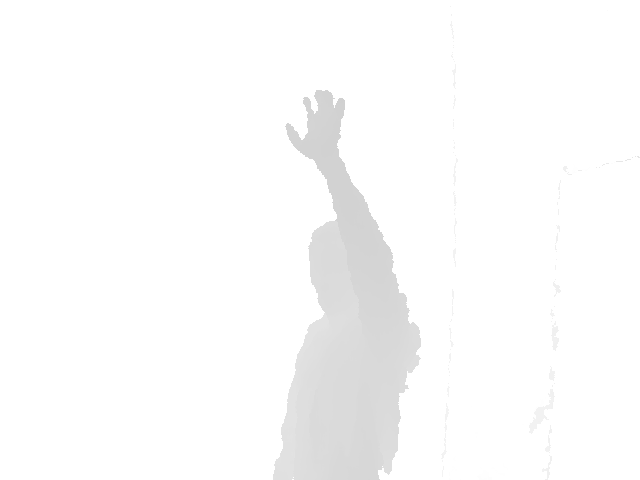hand: (283, 88, 346, 158)
head: (308, 217, 366, 316)
person: (271, 88, 421, 479)
